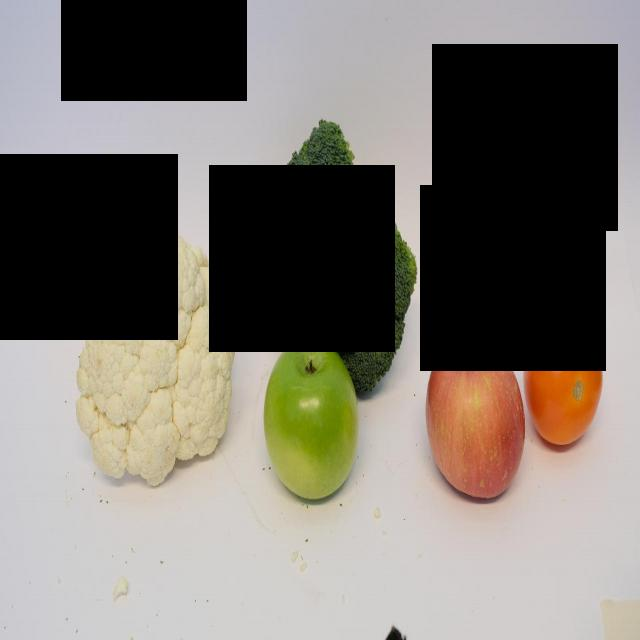apple: (424, 337, 526, 501), (263, 334, 359, 502)
broccoli: (268, 116, 418, 398)
cauliflower: (75, 234, 236, 488)
tomato: (522, 309, 604, 448)
